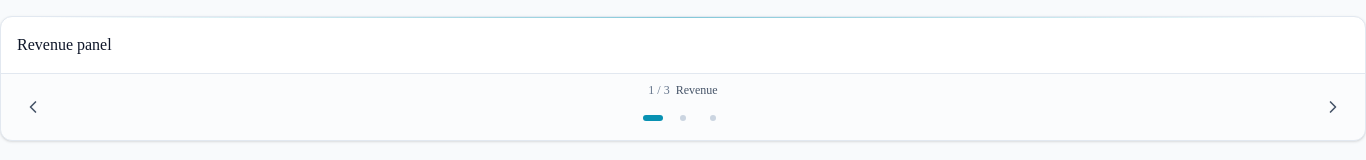
Carousell › jumps to a slide through the dot indicators
Click the button named "Go to slide 3: Occupancy" at (713, 118), box [699,104,727,132]
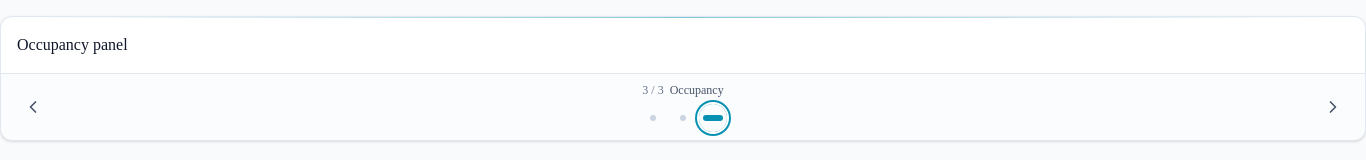
Expected: the element named "3 of 3: Occupancy" is shown, [17,36,128,52]
